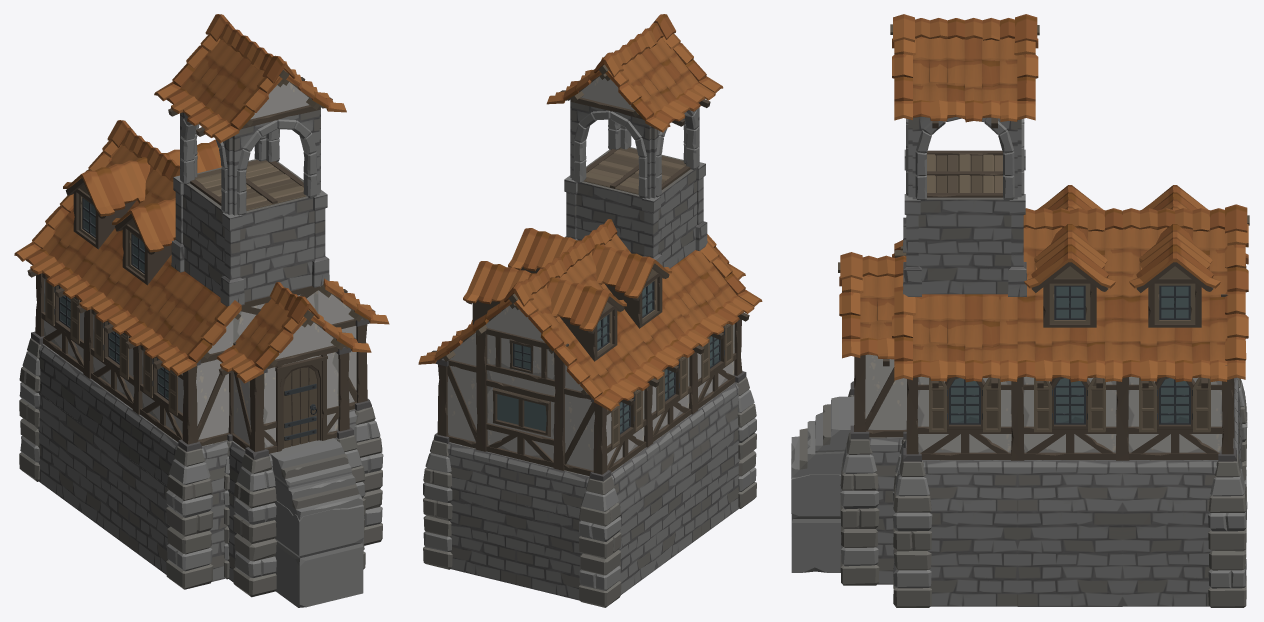
The model's file is SM_Bld_Preset_Church_01_B_Optimized.fbx.
3 views of the same model, side by side, from view 1: azimuth 30°, elevation 25°; view 2: azimuth 150°, elevation 25°; view 3: azimuth 270°, elevation 25° (orthographic). The views are drawn at different scales.
Visible parts, largest first — view 1: SM_Bld_Preset_Church_01_B_Optimized, SM_Bld_Preset_Church_01_B_Glass_Optimized; view 2: SM_Bld_Preset_Church_01_B_Optimized, SM_Bld_Preset_Church_01_B_Glass_Optimized; view 3: SM_Bld_Preset_Church_01_B_Optimized, SM_Bld_Preset_Church_01_B_Glass_Optimized.
Part boxes in pixels (box(x1,y1,x2,y2)): SM_Bld_Preset_Church_01_B_Optimized: box(14, 14, 389, 607); SM_Bld_Preset_Church_01_B_Glass_Optimized: box(60, 199, 168, 398); SM_Bld_Preset_Church_01_B_Optimized: box(418, 14, 762, 607); SM_Bld_Preset_Church_01_B_Glass_Optimized: box(497, 283, 718, 432); SM_Bld_Preset_Church_01_B_Optimized: box(791, 14, 1249, 607); SM_Bld_Preset_Church_01_B_Glass_Optimized: box(951, 286, 1188, 422).
Size of the model in its own units: 645 by 1424 by 1092.
